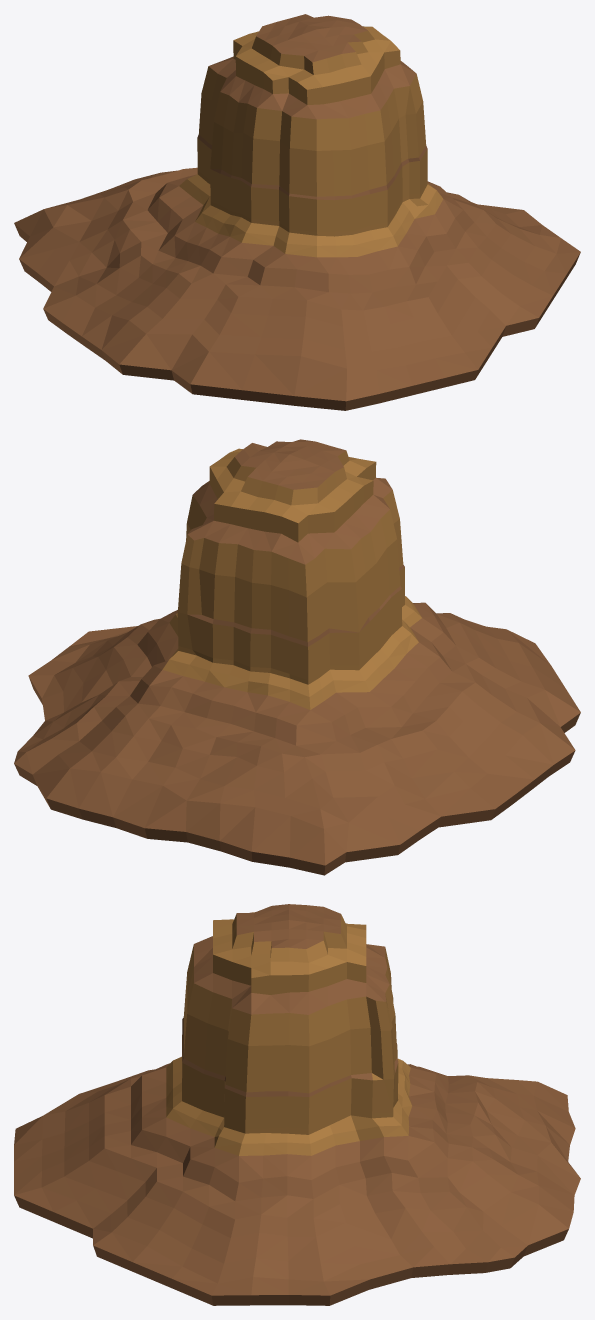
Rendered from terrains-mountain-desert.glb.
The picture shows the model from 3 angles, top to bottom: view 1: azimuth 30°, elevation 25°; view 2: azimuth 150°, elevation 25°; view 3: azimuth 270°, elevation 25°; orthographic projection. The views are drawn at different scales.
Parts seen in each view (by area): view 1: mountain-desert; view 2: mountain-desert; view 3: mountain-desert.
Part boxes in pixels (bbox=[...]): mountain-desert: bbox=[14, 14, 580, 410]; mountain-desert: bbox=[14, 439, 580, 875]; mountain-desert: bbox=[14, 904, 580, 1305].
Bounding box in the file's own units: 53.09 × 28.86 × 54.37.
